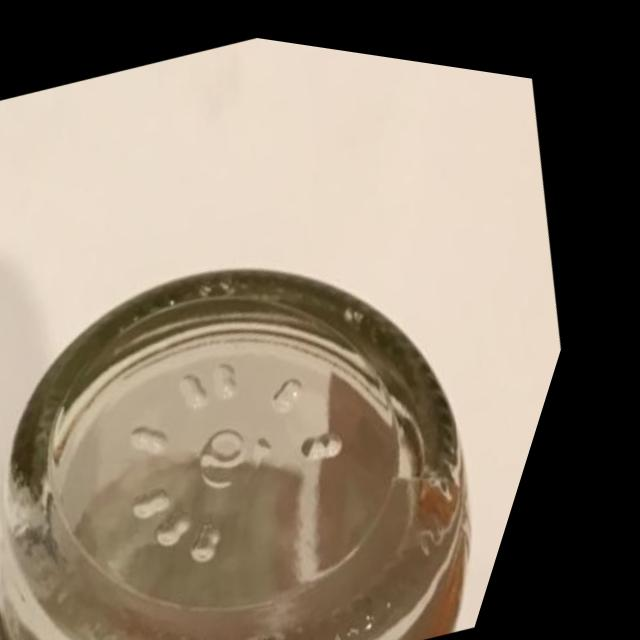glass: (0, 78, 621, 640)
